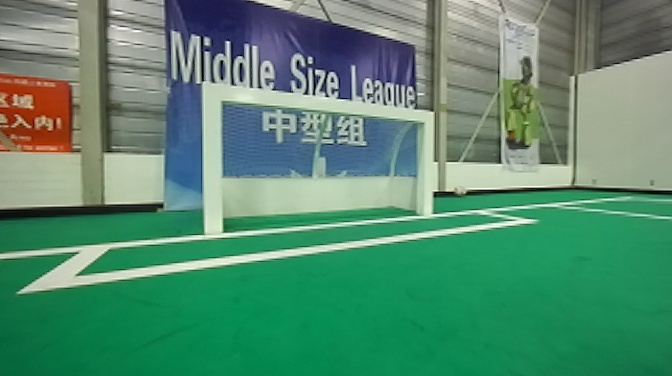goalpost: (190, 77, 231, 238), (411, 108, 444, 234)
